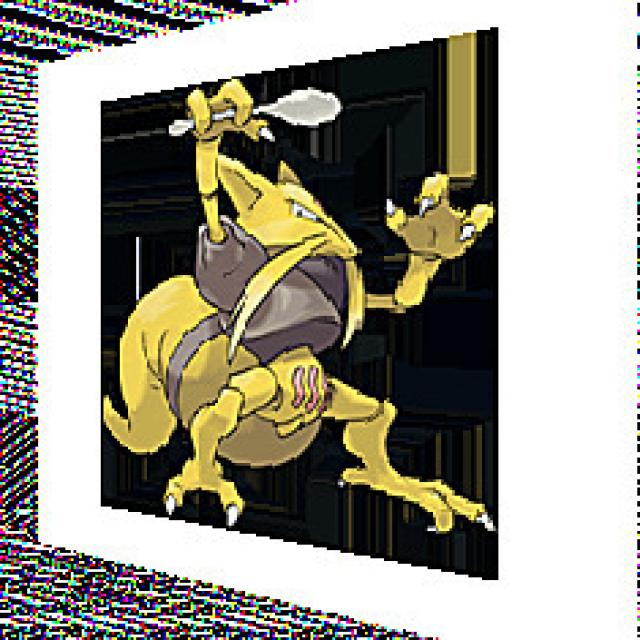Kadabra: (160, 100, 444, 514)
